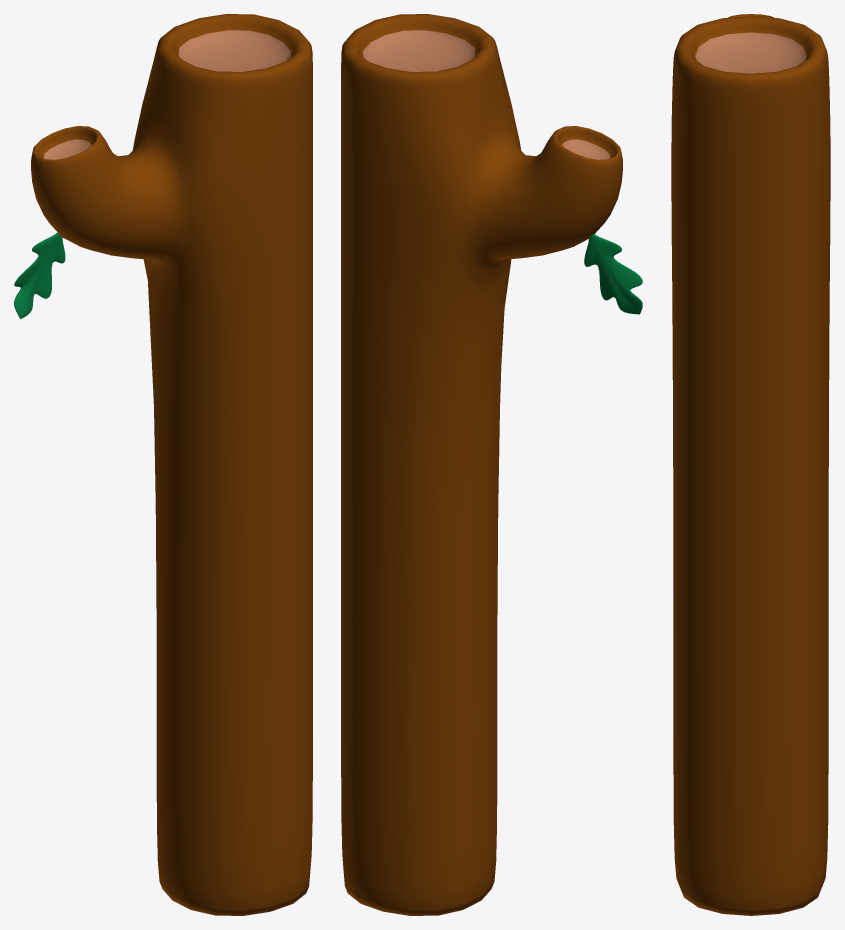
File: tronco.fbx
3 views of the same model, side by side, from view 1: azimuth 30°, elevation 25°; view 2: azimuth 150°, elevation 25°; view 3: azimuth 270°, elevation 25° (orthographic).
Visible parts, largest first — view 1: Cube, Cube.001; view 2: Cube, Cube.001; view 3: Cube.
Part boxes in pixels (left/top/right/bottom): Cube: left=31, top=14, right=312, bottom=915; Cube.001: left=14, top=232, right=65, bottom=318; Cube: left=341, top=14, right=622, bottom=915; Cube.001: left=584, top=234, right=642, bottom=314; Cube: left=671, top=14, right=830, bottom=915.
Size of the model in its own units: 188 by 394 by 1095.
2 materials, 2 textured.
